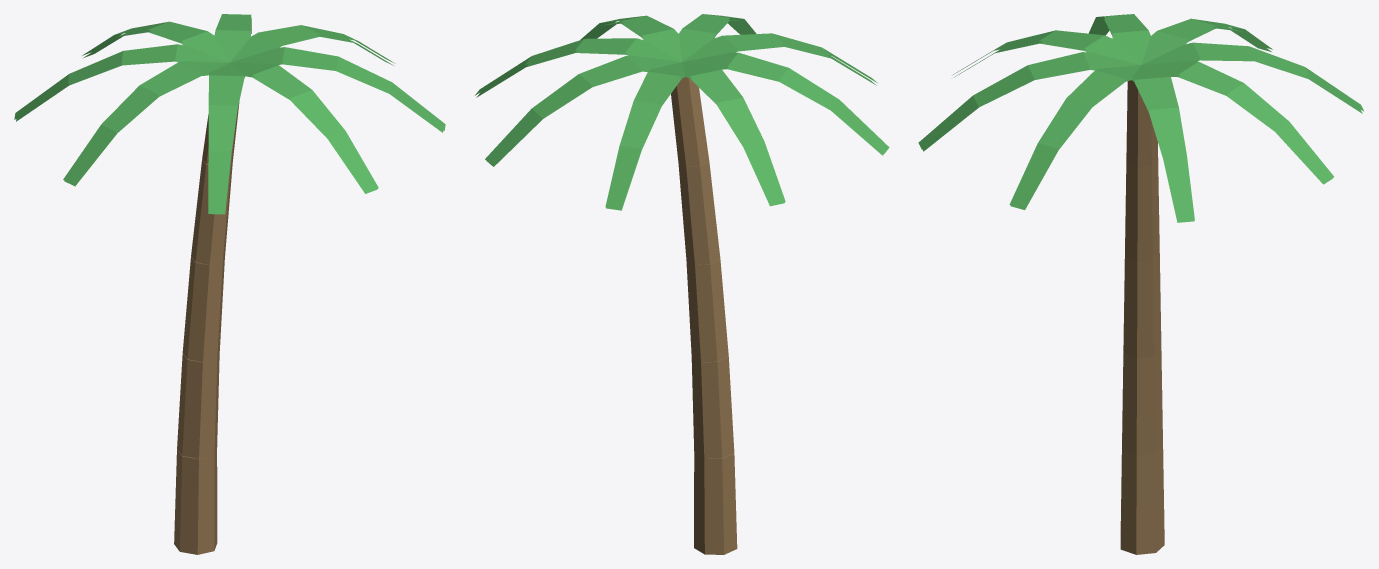
Rendered from palm.glb.
3 views of the same model, side by side, from view 1: azimuth 30°, elevation 25°; view 2: azimuth 150°, elevation 25°; view 3: azimuth 270°, elevation 25° (orthographic). The views are drawn at different scales.
Visible parts, largest first — view 1: palm; view 2: palm; view 3: palm.
Part boxes in pixels (left/top/right/bottom): palm: left=14, top=14, right=445, bottom=554; palm: left=475, top=14, right=889, bottom=554; palm: left=918, top=14, right=1363, bottom=554.
Size of the model in its own units: 6.52 by 8.19 by 6.52.
